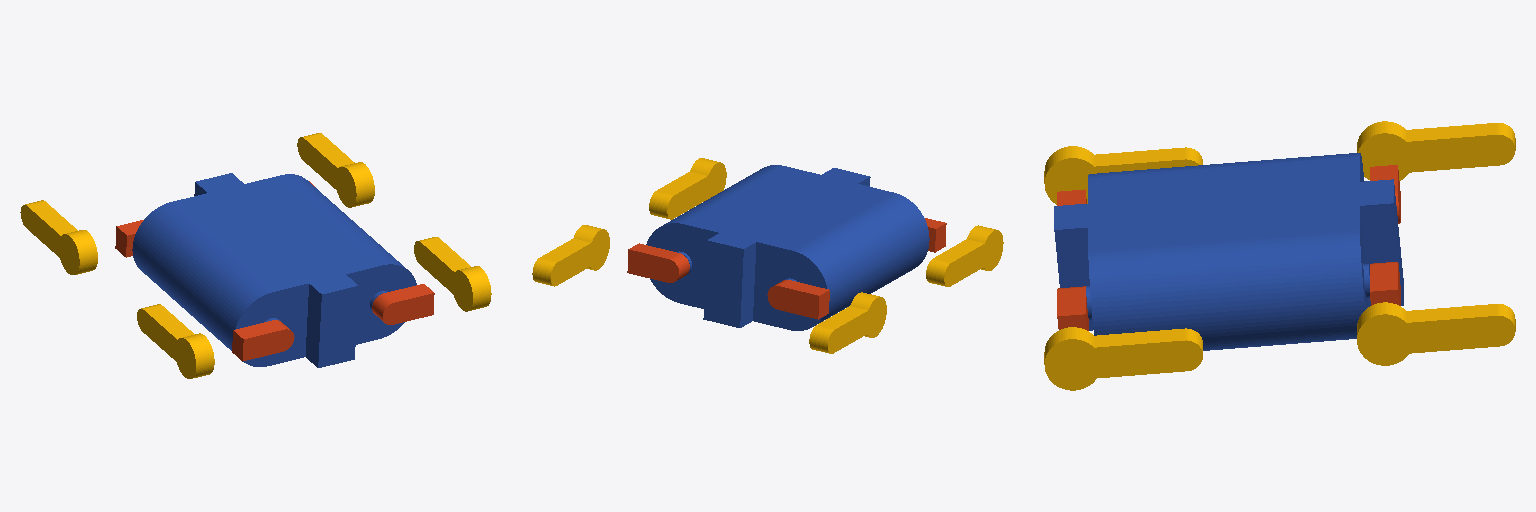
URDF robot description (onshape):
<robot name="onshape">
    <link name="base">
        <visual>
            <origin xyz="0.0099227436898500984142 0.13827116291230645562 -0.021555193326414485988"
                rpy="0.087266480467832654999 -1.4990033074911502359e-08 -2.2094851261557873804e-08" />
            <geometry>
                <mesh filename="../meshes/NW-V2.0/trunk.stl" />
            </geometry>
            <material name="trunk_material">
                <color rgba="0.2313725490196078538 0.38039215686274507888 0.7058823529411765163 1.0" />
            </material>
        </visual>
        <collision>
            <origin xyz="0.0099227436898500984142 0.13827116291230645562 -0.021555193326414485988"
                rpy="0.087266480467832654999 -1.4990033074911502359e-08 -2.2094851261557873804e-08" />
            <geometry>
                <mesh filename="../meshes/NW-V2.0/trunk.stl" />
            </geometry>
        </collision>
        <inertial>
            <origin xyz="0.0099227428469158013985 0.13391337488491744656 0.028254541500307355645"
                rpy="0 0 0" />
            <mass value="1.0520000000000000462" />
            <inertia ixx="0.0066139164607848304964" ixy="-2.2127823919599840592e-11"
                ixz="-6.4087305219667734827e-11" iyy="0.0053174843071791873944"
                iyz="-0.00043473231152154918205" izz="0.010248462186210406319" />
        </inertial>
    </link>

    <link name="FRH">
        <visual>
            <origin xyz="0.032215611636638621929 0.028555101990604004475 -1.7347234759768070944e-18"
                rpy="1.570796326794896558 1.1108205397628203633e-25 2.389243996016179635e-24" />
            <geometry>
                <mesh filename="../meshes/NW-V2.0/h.stl" />
            </geometry>
            <material name="h_material">
                <color
                    rgba="0.86666666666666669627 0.32156862745098041545 0.15686274509803921351 1.0" />
            </material>
        </visual>
        <collision>
            <origin xyz="0.032215611636638621929 0.028555101990604004475 -1.7347234759768070944e-18"
                rpy="1.570796326794896558 1.1108205397628203633e-25 2.389243996016179635e-24" />
            <geometry>
                <mesh filename="../meshes/NW-V2.0/h.stl" />
            </geometry>
        </collision>
        <inertial>
            <origin xyz="0.021525592503996202054 0 -0.012500000000000004163" rpy="0 0 0" />
            <mass value="0.00899999999999999932" />
            <inertia ixx="1.1139804559497147109e-06" ixy="-4.7104694595813748498e-30"
                ixz="2.1217815524415599108e-30" iyy="3.861958513835964132e-06"
                iyz="4.2501859106604299266e-23" izz="4.0384389697856785015e-06" />
        </inertial>
    </link>

    <link name="FRLU">
        <visual>
            <origin xyz="0 -4.336808689942017736e-19 -0.044999999999999998335"
                rpy="-1.570796326794896558 -1.570796326794896558 0" />
            <geometry>
                <mesh filename="../meshes/NW-V2.0/lu.stl" />
            </geometry>
            <material name="lu_material">
                <color
                    rgba="0.90980392156862743835 0.57254901960784310155 0.16470588235294117418 1.0" />
            </material>
        </visual>
        <collision>
            <origin xyz="0 -4.336808689942017736e-19 -0.044999999999999998335"
                rpy="-1.570796326794896558 -1.570796326794896558 0" />
            <geometry>
                <mesh filename="../meshes/NW-V2.0/lu.stl" />
            </geometry>
        </collision>
        <inertial>
            <origin
                xyz="6.2620707155193050731e-18 -0.049999999999999995837 -0.022499999999999992228"
                rpy="0 0 0" />
            <mass value="0.37600000000000000089" />
            <inertia ixx="0.00054596018323756559387" ixy="-6.2909339871692696768e-21"
                ixz="-2.7466218204555690158e-28" iyy="9.0305640199817038306e-05"
                iyz="-1.1186833988322070734e-27" izz="0.00050936582343738242076" />
        </inertial>
    </link>

    <link name="FRLL">
        <visual>
            <origin
                xyz="-3.4694469519536141888e-18 1.3877787807814456755e-17 -0.024999999999999994449"
                rpy="-1.570796326794896558 -1.570796326794896558 0" />
            <geometry>
                <mesh filename="../meshes/NW-V2.0/ll.stl" />
            </geometry>
            <material name="ll_material">
                <color rgba="1 0.7568627450980391913 0.054901960784313724728 1.0" />
            </material>
        </visual>
        <collision>
            <origin
                xyz="-3.4694469519536141888e-18 1.3877787807814456755e-17 -0.024999999999999994449"
                rpy="-1.570796326794896558 -1.570796326794896558 0" />
            <geometry>
                <mesh filename="../meshes/NW-V2.0/ll.stl" />
            </geometry>
        </collision>
        <inertial>
            <origin
                xyz="1.9694526951946787719e-18 -0.061136909622975924017 -0.012499999999999993755"
                rpy="0 0 0" />
            <mass value="0.058000000000000002942" />
            <inertia ixx="9.3657217382847496073e-05" ixy="1.8944387790966397996e-21"
                ixz="1.9264078887896147153e-28" iyy="9.3296789238021415761e-06"
                iyz="8.0611222752185609261e-29" izz="9.6945229639983001441e-05" />
        </inertial>
    </link>

    <joint name="FRK" type="revolute">
        <origin xyz="1.7347234759768070944e-17 -0.099999999999999991673 -0.045499999999999998779"
            rpy="-7.1116470838921432146e-22 -2.2925350776676440181e-23 3.141592653589753148" />
        <parent link="FRLU" />
        <child link="FRLL" />
        <axis xyz="0 0 1" />
        <limit effort="6.864655" velocity="8.055365759832842" lower="0" upper="3.141592653589793116" />
        <dynamics friction="0.0" />
    </joint>

    <joint name="FRHL" type="revolute">
        <origin xyz="0.055499999999999979905 0 -0.012499999999999997224"
            rpy="-1.570796326794896558 -1.7868117234929788401e-08 1.5707963267948958919" />
        <parent link="FRH" />
        <child link="FRLU" />
        <axis xyz="0 0 1" />
        <limit effort="6.864655" velocity="8.055365759832842" lower="-3.141592653589793116" upper="0" />
        <dynamics friction="0.0" />
    </joint>

    <joint name="FRHU" type="revolute">
        <origin xyz="-0.0650772597514745893 0.0088909421269594522685 0.017316492427308392832"
            rpy="1.4835298463270636393 1.4990033393763916416e-08 3.1415926314949418341" />
        <parent link="base" />
        <child link="FRH" />
        <axis xyz="0 0 1" />
        <limit effort="6.864655" velocity="8.055365759832842" lower="-1.570796326794896558" upper="1.570796326794896558" />
        <dynamics friction="0.0" />
    </joint>

    <link name="FLH">
        <visual>
            <origin xyz="0.032215611636638621929 0.028555101990604007944 -1.7347234759768070944e-18"
                rpy="1.570796326794896558 9.1075724079965769096e-25 1.505906012323039885e-24" />
            <geometry>
                <mesh filename="../meshes/NW-V2.0/h.stl" />
            </geometry>
            <material name="h_material">
                <color
                    rgba="0.86666666666666669627 0.32156862745098041545 0.15686274509803921351 1.0" />
            </material>
        </visual>
        <collision>
            <origin xyz="0.032215611636638621929 0.028555101990604007944 -1.7347234759768070944e-18"
                rpy="1.570796326794896558 9.1075724079965769096e-25 1.505906012323039885e-24" />
            <geometry>
                <mesh filename="../meshes/NW-V2.0/h.stl" />
            </geometry>
        </collision>
        <inertial>
            <origin xyz="0.021525592503996202054 3.4694469519536141888e-18 -0.012500000000000004163"
                rpy="0 0 0" />
            <mass value="0.00899999999999999932" />
            <inertia ixx="1.1139804559497151344e-06" ixy="-1.9689084518447128962e-31"
                ixz="3.3800616490418427527e-30" iyy="3.861958513835964132e-06"
                iyz="-2.7196292853585671399e-23" izz="4.0384389697856785015e-06" />
        </inertial>
    </link>

    <link name="FLLU">
        <visual>
            <origin xyz="0 1.3010426069826053208e-18 0"
                rpy="1.570796326794896558 1.570796326794896558 0" />
            <geometry>
                <mesh filename="../meshes/NW-V2.0/lu.stl" />
            </geometry>
            <material name="lu_material">
                <color
                    rgba="0.90980392156862743835 0.57254901960784310155 0.16470588235294117418 1.0" />
            </material>
        </visual>
        <collision>
            <origin xyz="0 1.3010426069826053208e-18 0"
                rpy="1.570796326794896558 1.570796326794896558 0" />
            <geometry>
                <mesh filename="../meshes/NW-V2.0/lu.stl" />
            </geometry>
        </collision>
        <inertial>
            <origin xyz="5.5616208431659320034e-18 0.050000000000000009714 -0.022500000000000006106"
                rpy="0 0 0" />
            <mass value="0.37600000000000000089" />
            <inertia ixx="0.00054596018323756537703" ixy="-2.2992841737624431057e-21"
                ixz="2.7015283880290629614e-28" iyy="9.0305640199817092516e-05"
                iyz="-9.070826082759685624e-29" izz="0.00050936582343738242076" />
        </inertial>
    </link>

    <link name="FLLL">
        <visual>
            <origin xyz="3.4694469519536141888e-18 0 0"
                rpy="1.570796326794896558 1.570796326794896558 0" />
            <geometry>
                <mesh filename="../meshes/NW-V2.0/ll.stl" />
            </geometry>
            <material name="ll_material">
                <color rgba="1 0.7568627450980391913 0.054901960784313724728 1.0" />
            </material>
        </visual>
        <collision>
            <origin xyz="3.4694469519536141888e-18 0 0"
                rpy="1.570796326794896558 1.570796326794896558 0" />
            <geometry>
                <mesh filename="../meshes/NW-V2.0/ll.stl" />
            </geometry>
        </collision>
        <inertial>
            <origin xyz="9.2137019453039912532e-18 0.061136909622975937895 -0.012500000000000002429"
                rpy="0 0 0" />
            <mass value="0.058000000000000002942" />
            <inertia ixx="9.3657217382847523179e-05" ixy="1.3290574521296748718e-21"
                ixz="6.6457046954983543975e-31" iyy="9.3296789238021415761e-06"
                iyz="1.7231724855193558632e-28" izz="9.6945229639983001441e-05" />
        </inertial>
    </link>

    <joint name="FLK" type="revolute">
        <origin xyz="1.0408340855860842566e-17 0.10000000000000001943 -0.045499999999999984901"
            rpy="-7.8652590286309986181e-18 -4.7062504561224808517e-16 3.1415926520183123927" />
        <parent link="FLLU" />
        <child link="FLLL" />
        <axis xyz="0 0 1" />
        <limit effort="6.864655" velocity="8.055365759832842" lower="-3.141592653589793116" upper="0" />
        <dynamics friction="0.0" />
    </joint>

    <joint name="FLHL" type="revolute">
        <origin xyz="0.055499999999999966027 3.4694469519536141888e-18 -0.012500000000000000694"
            rpy="1.570796326794896558 -4.159598675987668933e-09 -1.5707963267948958919" />
        <parent link="FLH" />
        <child link="FLLU" />
        <axis xyz="0 0 1" />
        <limit effort="6.864655" velocity="8.055365759832842" lower="0" upper="3.141592653589793116" />
        <dynamics friction="0.0" />
    </joint>

    <joint name="FLHU" type="revolute">
        <origin xyz="0.084922740248525377393 0.0088909388127318342288 0.017316494675813358384"
            rpy="-1.4835298463270638614 6.7904519714569485168e-09 -2.0189305413825018056e-08" />
        <parent link="base" />
        <child link="FLH" />
        <axis xyz="0 0 1" />
        <limit effort="6.864655" velocity="8.055365759832842" lower="-1.570796326794896558" upper="1.570796326794896558" />
        <dynamics friction="0.0" />
    </joint>

    <link name="BLH">
        <visual>
            <origin xyz="0.032215611636638649684 -0.028555101990604011414 -0.025000000000000022204"
                rpy="-1.570796326794896558 -8.10198965264292864e-25 9.4990879062215657594e-26" />
            <geometry>
                <mesh filename="../meshes/NW-V2.0/h.stl" />
            </geometry>
            <material name="h_material">
                <color
                    rgba="0.86666666666666669627 0.32156862745098041545 0.15686274509803921351 1.0" />
            </material>
        </visual>
        <collision>
            <origin xyz="0.032215611636638649684 -0.028555101990604011414 -0.025000000000000022204"
                rpy="-1.570796326794896558 -8.10198965264292864e-25 9.4990879062215657594e-26" />
            <geometry>
                <mesh filename="../meshes/NW-V2.0/h.stl" />
            </geometry>
        </collision>
        <inertial>
            <origin xyz="0.02152559250399622981 -6.9388939039072283776e-18 -0.012500000000000016306"
                rpy="0 0 0" />
            <mass value="0.00899999999999999932" />
            <inertia ixx="1.1139804559497151344e-06" ixy="5.4442413068550466113e-31"
                ixz="1.6844066981830147865e-30" iyy="3.861958513835964132e-06"
                iyz="8.6849436149024947476e-23" izz="4.0384389697856801956e-06" />
        </inertial>
    </link>

    <link name="BLLU">
        <visual>
            <origin xyz="0 5.5511151231257827021e-17 0"
                rpy="1.570796326794896558 1.570796326794896558 0" />
            <geometry>
                <mesh filename="../meshes/NW-V2.0/lu.stl" />
            </geometry>
            <material name="lu_material">
                <color
                    rgba="0.90980392156862743835 0.57254901960784310155 0.16470588235294117418 1.0" />
            </material>
        </visual>
        <collision>
            <origin xyz="0 5.5511151231257827021e-17 0"
                rpy="1.570796326794896558 1.570796326794896558 0" />
            <geometry>
                <mesh filename="../meshes/NW-V2.0/lu.stl" />
            </geometry>
        </collision>
        <inertial>
            <origin xyz="5.9211816862429063451e-18 0.050000000000000051348 -0.022500000000000006106"
                rpy="0 0 0" />
            <mass value="0.37600000000000000089" />
            <inertia ixx="0.00054596018323756537703" ixy="1.1357734578361653713e-21"
                ixz="1.6575077737249074558e-29" iyy="9.0305640199817038306e-05"
                iyz="-7.7086529605856559569e-28" izz="0.00050936582343738242076" />
        </inertial>
    </link>

    <link name="BLLL">
        <visual>
            <origin xyz="0 0 0" rpy="1.570796326794896558 1.570796326794896558 0" />
            <geometry>
                <mesh filename="../meshes/NW-V2.0/ll.stl" />
            </geometry>
            <material name="ll_material">
                <color rgba="1 0.7568627450980391913 0.054901960784313724728 1.0" />
            </material>
        </visual>
        <collision>
            <origin xyz="0 0 0" rpy="1.570796326794896558 1.570796326794896558 0" />
            <geometry>
                <mesh filename="../meshes/NW-V2.0/ll.stl" />
            </geometry>
        </collision>
        <inertial>
            <origin xyz="3.7390117916974263243e-18 0.061136909622975937895 -0.012500000000000002429"
                rpy="0 0 0" />
            <mass value="0.058000000000000002942" />
            <inertia ixx="9.3657217382847577389e-05" ixy="-4.5788073598597142278e-22"
                ixz="-8.9882329698141926452e-30" iyy="9.3296789238021415761e-06"
                iyz="3.1104732328345604965e-28" izz="9.6945229639983001441e-05" />
        </inertial>
    </link>

    <joint name="BLK" type="revolute">
        <origin xyz="1.3877787807814456755e-17 0.10000000000000003331 -0.045500000000000040412"
            rpy="1.4434690318418828902e-23 -2.1427618407478369809e-16 3.1415926503251903057" />
        <parent link="BLLU" />
        <child link="BLLL" />
        <axis xyz="0 0 1" />
        <limit effort="6.864655" velocity="8.055365759832842" lower="-3.141592653589793116" upper="0" />
        <dynamics friction="0.0" />
    </joint>

    <joint name="BLHL" type="revolute">
        <origin xyz="0.055500000000000021538 -6.9388939039072283776e-18 -0.012500000000000011102"
            rpy="-1.570796326794896558 4.159598612862823089e-09 1.57079632679489678" />
        <parent link="BLH" />
        <child link="BLLU" />
        <axis xyz="0 0 1" />
        <limit effort="6.864655" velocity="8.055365759832842" lower="0" upper="3.141592653589793116" />
        <dynamics friction="0.0" />
    </joint>

    <joint name="BLHU" type="revolute">
        <origin xyz="0.084922745445306119239 0.2589358076428754929 0.039192590573306332336"
            rpy="1.6580628072627294767 1.8044978216328643843e-09 -2.0625520126565480844e-08" />
        <parent link="base" />
        <child link="BLH" />
        <axis xyz="0 0 1" />
        <limit effort="6.864655" velocity="8.055365759832842" lower="-1.570796326794896558" upper="1.570796326794896558" />
        <dynamics friction="0.0" />
    </joint>

    <link name="BRH">
        <visual>
            <origin xyz="0.032215611636638635806 -0.028555101990604011414 -0.025000000000000022204"
                rpy="-1.570796326794896558 -1.4998403820108036855e-24 -4.3122347891137220117e-26" />
            <geometry>
                <mesh filename="../meshes/NW-V2.0/h.stl" />
            </geometry>
            <material name="h_material">
                <color
                    rgba="0.86666666666666669627 0.32156862745098041545 0.15686274509803921351 1.0" />
            </material>
        </visual>
        <collision>
            <origin xyz="0.032215611636638635806 -0.028555101990604011414 -0.025000000000000022204"
                rpy="-1.570796326794896558 -1.4998403820108036855e-24 -4.3122347891137220117e-26" />
            <geometry>
                <mesh filename="../meshes/NW-V2.0/h.stl" />
            </geometry>
        </collision>
        <inertial>
            <origin
                xyz="0.021525592503996215932 -6.9388939039072283776e-18 -0.012500000000000016306"
                rpy="0 0 0" />
            <mass value="0.00899999999999999932" />
            <inertia ixx="1.1139804559497151344e-06" ixy="9.3627191242228522523e-32"
                ixz="-4.7049295494197789846e-30" iyy="3.861958513835964132e-06"
                iyz="-1.4219191714590580432e-22" izz="4.0384389697856801956e-06" />
        </inertial>
    </link>

    <link name="BRLU">
        <visual>
            <origin xyz="-6.9388939039072283776e-18 0 -0.045000000000000012212"
                rpy="-1.570796326794896558 -1.570796326794896558 0" />
            <geometry>
                <mesh filename="../meshes/NW-V2.0/lu.stl" />
            </geometry>
            <material name="lu_material">
                <color
                    rgba="0.90980392156862743835 0.57254901960784310155 0.16470588235294117418 1.0" />
            </material>
        </visual>
        <collision>
            <origin xyz="-6.9388939039072283776e-18 0 -0.045000000000000012212"
                rpy="-1.570796326794896558 -1.570796326794896558 0" />
            <geometry>
                <mesh filename="../meshes/NW-V2.0/lu.stl" />
            </geometry>
        </collision>
        <inertial>
            <origin
                xyz="-1.3050027554235737557e-18 -0.049999999999999995837 -0.022500000000000006106"
                rpy="0 0 0" />
            <mass value="0.37600000000000000089" />
            <inertia ixx="0.00054596018323756516019" ixy="6.9271241937707520723e-21"
                ixz="3.9087517827652982159e-29" iyy="9.0305640199817065411e-05"
                iyz="-1.0600944170879576797e-27" izz="0.00050936582343738242076" />
        </inertial>
    </link>

    <link name="BRLL">
        <visual>
            <origin xyz="0 0 -0.024999999999999966693"
                rpy="-1.570796326794896558 -1.570796326794896558 0" />
            <geometry>
                <mesh filename="../meshes/NW-V2.0/ll.stl" />
            </geometry>
            <material name="ll_material">
                <color rgba="1 0.7568627450980391913 0.054901960784313724728 1.0" />
            </material>
        </visual>
        <collision>
            <origin xyz="0 0 -0.024999999999999966693"
                rpy="-1.570796326794896558 -1.570796326794896558 0" />
            <geometry>
                <mesh filename="../meshes/NW-V2.0/ll.stl" />
            </geometry>
        </collision>
        <inertial>
            <origin
                xyz="4.7280846165466977846e-18 -0.061136909622975930956 -0.012499999999999964265"
                rpy="0 0 0" />
            <mass value="0.058000000000000002942" />
            <inertia ixx="9.3657217382847496073e-05" ixy="1.648354660558725678e-21"
                ixz="-8.8628767452269501285e-30" iyy="9.3296789238021381879e-06"
                iyz="5.3997135265007114694e-28" izz="9.6945229639983001441e-05" />
        </inertial>
    </link>

    <joint name="BRK" type="revolute">
        <origin xyz="6.9388939039072283776e-18 -0.10000000000000003331 -0.045500000000000012657"
            rpy="2.4133500580982883301e-16 -8.1245406211814635824e-17 -3.1415926503251419" />
        <parent link="BRLU" />
        <child link="BRLL" />
        <axis xyz="0 0 1" />
        <limit effort="6.864655" velocity="8.055365759832842" lower="0" upper="3.141592653589793116" />
        <dynamics friction="0.0" />
    </joint>

    <joint name="BRHL" type="revolute">
        <origin xyz="0.055499999999999993783 -1.3877787807814456755e-17 -0.012500000000000011102"
            rpy="1.570796326794896558 4.1595986025831493502e-09 -1.5707963267948985564" />
        <parent link="BRH" />
        <child link="BRLU" />
        <axis xyz="0 0 1" />
        <limit effort="6.864655" velocity="8.055365759832842" lower="-3.141592653589793116" upper="0" />
        <dynamics friction="0.0" />
    </joint>

    <joint name="BRHU" type="revolute">
        <origin xyz="-0.065077254554693611532 0.25893581095710316298 0.039192588324801366784"
            rpy="-1.6580628072627294767 -1.8044955021529479955e-09 3.1415926329642727133" />
        <parent link="base" />
        <child link="BRH" />
        <axis xyz="0 0 1" />
        <limit effort="6.864655" velocity="8.055365759832842" lower="-1.570796326794896558" upper="1.570796326794896558" />
        <dynamics friction="0.0" />
    </joint>


</robot>

--- Render facts (derived) ---
The picture shows the robot from 3 angles, left to right: view 1: azimuth 30°, elevation 25°; view 2: azimuth 150°, elevation 25°; view 3: azimuth 270°, elevation 25°; orthographic projection.
Model onshape with 13 links and 12 joints (12 revolute), rooted at base, posed every joint at zero.
Links seen in each view (by area): view 1: base, FRLL, BLLL, BRLL, FLLL, FLH, FRH, BRH; view 2: base, BRLL, BLLL, FRLL, FLLL, BLH, BRH, FRH; view 3: base, FLLL, BLLL, BRLL, FRLL, FLH, BLH, BRH.
Link boxes in pixels (box(x1,y1,x2,y2)): base: box(132, 173, 416, 367); FRLL: box(137, 304, 214, 378); BLLL: box(297, 133, 374, 207); BRLL: box(20, 200, 97, 274); FLLL: box(414, 237, 491, 311); FLH: box(372, 284, 434, 324); FRH: box(232, 320, 294, 361); BRH: box(115, 220, 143, 257); base: box(646, 165, 929, 330); BRLL: box(809, 292, 886, 353); BLLL: box(532, 225, 609, 286); FRLL: box(926, 225, 1003, 286); FLLL: box(649, 158, 726, 219); BLH: box(627, 243, 689, 282); BRH: box(767, 280, 829, 319); FRH: box(925, 218, 946, 252); base: box(1054, 153, 1403, 350); FLLL: box(1044, 327, 1202, 390); BLLL: box(1357, 302, 1515, 365); BRLL: box(1357, 121, 1515, 180); FRLL: box(1044, 146, 1202, 204); FLH: box(1057, 286, 1088, 330); BLH: box(1370, 262, 1400, 305); BRH: box(1370, 165, 1400, 223).
Bounding box of the posed robot: 0.402 × 0.4146 × 0.1258 m (x, y, z).
9 mesh visuals loaded from 4 distinct referenced files (3 binary STL); not drawn: 4 (reference not matched to a file when rendering).